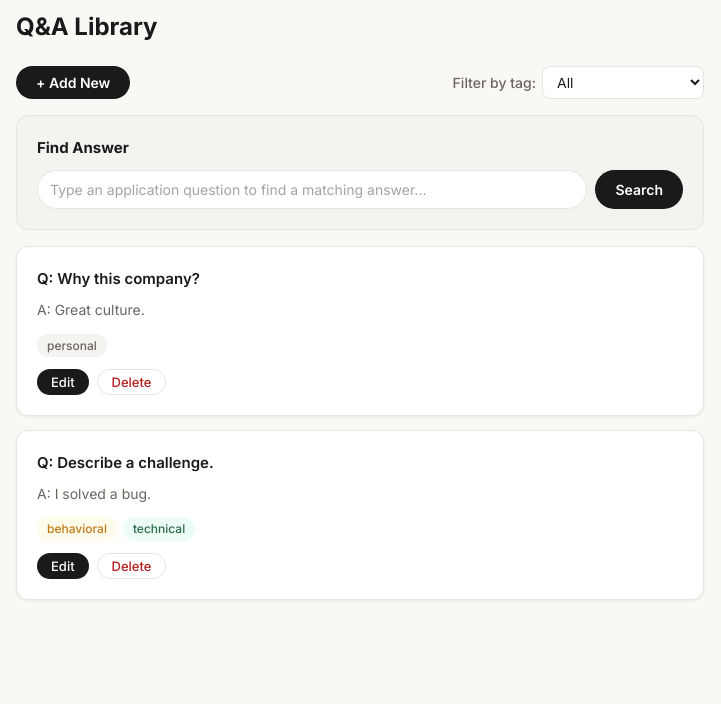
Test case: QALibrary › prompts to save when no match is found (Req 4.6)
The width and height of the screenshot is (721, 704).
Check: the text "Q: Why this company?" is shown, box 37,269 -> 200,288
Type "What are your hobbies?" into the field with placeholder "Type an application question to find a matching answer..." at (312, 190), box 37,170 -> 588,209
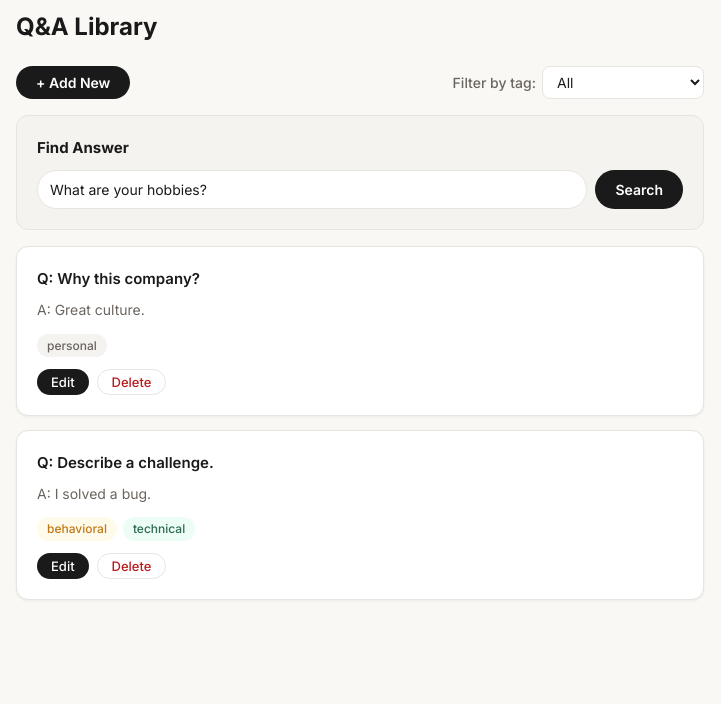
Click the button "Search" at (639, 190), box 596,170 -> 683,209
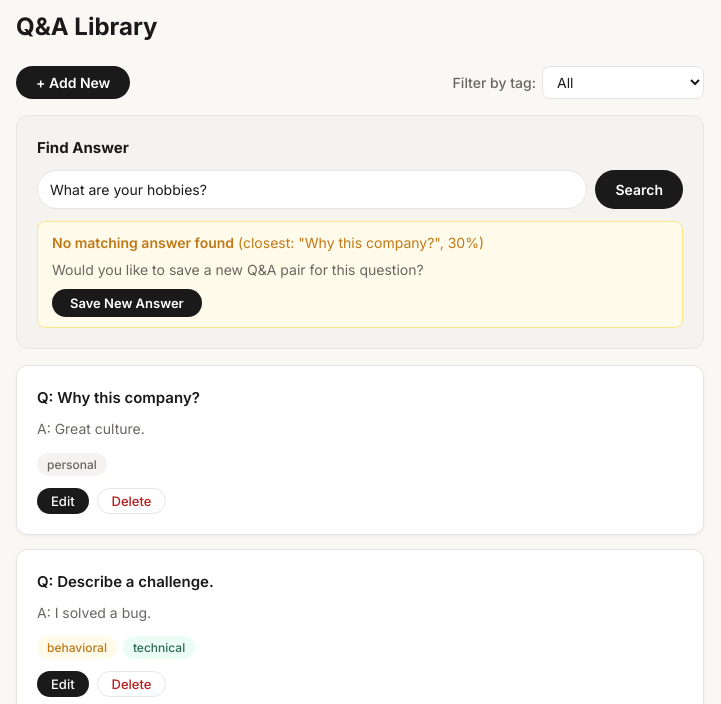
Check: the text "No matching answer found (closest: \"Why this company?\", 30%)" is shown, box 52,234 -> 484,251
Check: the text "Would you like to save a new Q&A pair for this question?" is shown, box 52,261 -> 424,278
Check: the button "Save New Answer" is shown, box 52,289 -> 202,317
